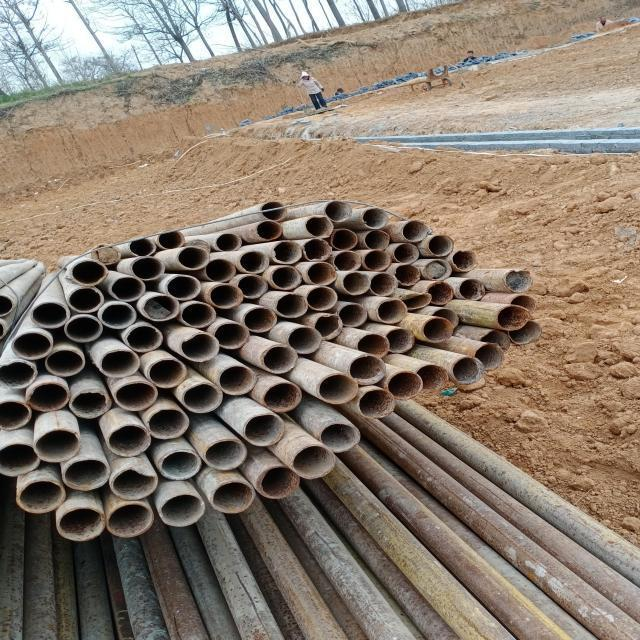pipe: (56, 505, 106, 542), (15, 478, 66, 514), (105, 502, 155, 538), (156, 492, 206, 528), (34, 426, 81, 464), (104, 423, 154, 458), (62, 456, 108, 492), (290, 444, 336, 480), (254, 464, 300, 500), (108, 467, 158, 500), (242, 412, 286, 448), (210, 480, 256, 514), (1, 440, 42, 478), (317, 420, 364, 453), (202, 438, 248, 471), (143, 408, 190, 440), (22, 382, 72, 412), (156, 449, 202, 481), (42, 348, 89, 378), (68, 388, 112, 420), (113, 380, 159, 410), (315, 372, 358, 404), (356, 386, 397, 419), (262, 382, 304, 414), (97, 348, 140, 379), (347, 352, 387, 384), (181, 383, 223, 413), (259, 343, 298, 375), (179, 332, 219, 363), (63, 312, 104, 342), (146, 358, 187, 388), (218, 364, 256, 396), (11, 331, 54, 359), (96, 300, 136, 330), (386, 370, 424, 401), (124, 322, 163, 352), (211, 321, 251, 350), (0, 396, 32, 432), (413, 362, 449, 394), (141, 294, 180, 322), (286, 325, 322, 355), (448, 356, 484, 386), (0, 360, 37, 389), (164, 274, 202, 302), (207, 282, 244, 310), (180, 300, 217, 328), (29, 302, 68, 328), (72, 260, 111, 286), (109, 274, 145, 302), (507, 318, 543, 346), (68, 285, 105, 312), (356, 331, 392, 358), (273, 292, 309, 318), (243, 306, 277, 333), (314, 313, 344, 343), (302, 212, 334, 240), (420, 316, 453, 343), (129, 256, 166, 280), (270, 239, 304, 265), (234, 274, 268, 300), (374, 298, 408, 324), (305, 261, 338, 287), (335, 302, 368, 328), (496, 304, 529, 330), (386, 327, 416, 355), (474, 342, 504, 370), (204, 258, 236, 284), (237, 249, 270, 274), (269, 265, 302, 290), (176, 246, 210, 270), (502, 268, 533, 294), (305, 286, 338, 310), (341, 270, 371, 296), (479, 329, 511, 353), (370, 271, 398, 298), (324, 198, 352, 224), (458, 276, 486, 302), (302, 238, 332, 262), (127, 236, 159, 258), (331, 226, 358, 252), (426, 281, 454, 306), (361, 207, 390, 231), (332, 250, 362, 273), (401, 218, 429, 242), (424, 258, 452, 282), (364, 228, 391, 252), (156, 228, 185, 250), (259, 200, 288, 222), (428, 234, 454, 258), (452, 248, 478, 272), (392, 242, 420, 264), (432, 308, 459, 330), (394, 264, 421, 286), (509, 294, 536, 316), (400, 292, 432, 310), (216, 232, 242, 252), (256, 220, 282, 240)
